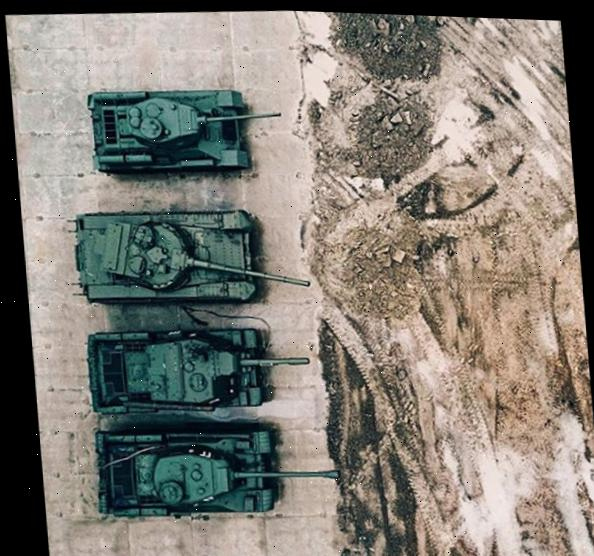tank: (59, 194, 321, 318), (83, 412, 347, 532), (77, 307, 326, 422), (77, 74, 293, 187)
